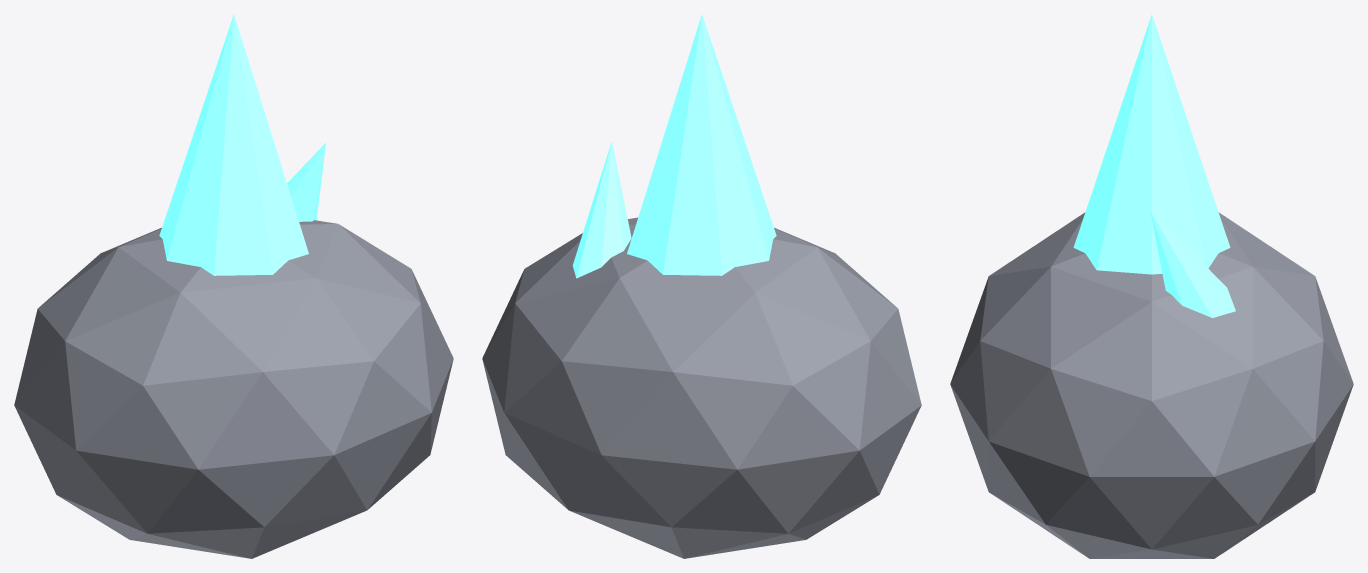
The model's file is OreTier6.fbx.
3 views of the same model, side by side, from view 1: azimuth 30°, elevation 25°; view 2: azimuth 150°, elevation 25°; view 3: azimuth 270°, elevation 25° (orthographic).
Visible parts, largest first — view 1: Rock, TealMain, TealSide; view 2: Rock, TealMain, TealSide; view 3: Rock, TealMain, TealSide.
Part boxes in pixels (bbox=[...]): Rock: bbox=[14, 220, 453, 558]; TealMain: bbox=[159, 14, 308, 275]; TealSide: bbox=[287, 143, 325, 221]; Rock: bbox=[482, 217, 921, 558]; TealMain: bbox=[627, 14, 776, 275]; TealSide: bbox=[572, 141, 631, 278]; Rock: bbox=[950, 212, 1353, 558]; TealMain: bbox=[1073, 14, 1230, 274]; TealSide: bbox=[1150, 210, 1235, 317].
Size of the model in its own units: 2.74 by 3.63 by 2.52.
